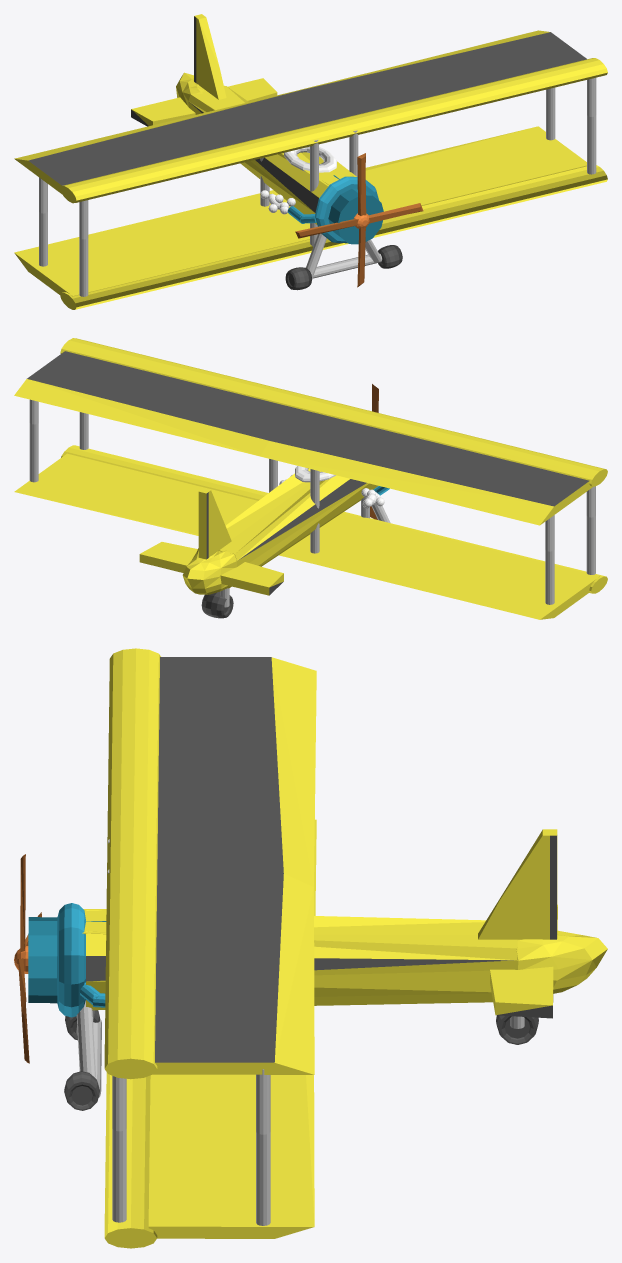
File: airplane_021.fbx
3 renders of one model, top to bottom at view 1: azimuth 30°, elevation 25°; view 2: azimuth 150°, elevation 25°; view 3: azimuth 270°, elevation 25°, orthographic. The views are drawn at different scales.
Parts seen in each view (by area): view 1: object_0; view 2: object_0; view 3: object_0.
Part boxes in pixels (x1,y1,x2,y2): object_0: (14, 14, 607, 309); object_0: (14, 338, 607, 619); object_0: (14, 648, 607, 1248).
Bounding box in the file's own units: 3.32 × 0.9152 × 2.03.
